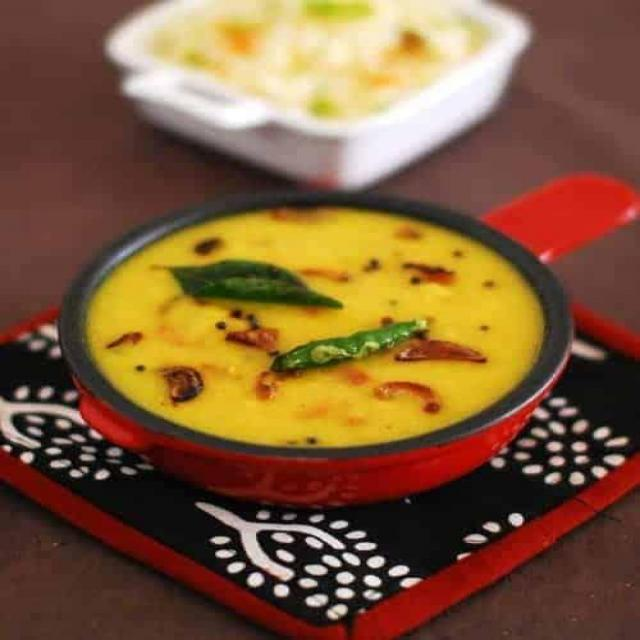dal: (93, 171, 533, 456)
